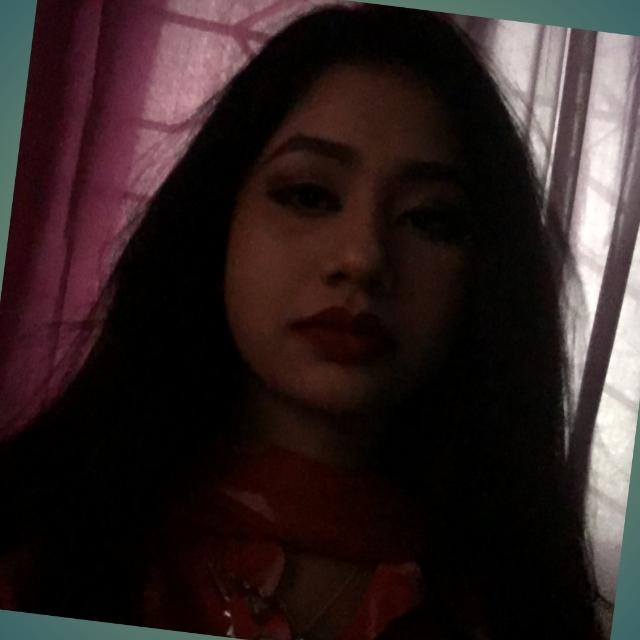Natural: (125, 54, 560, 480)
